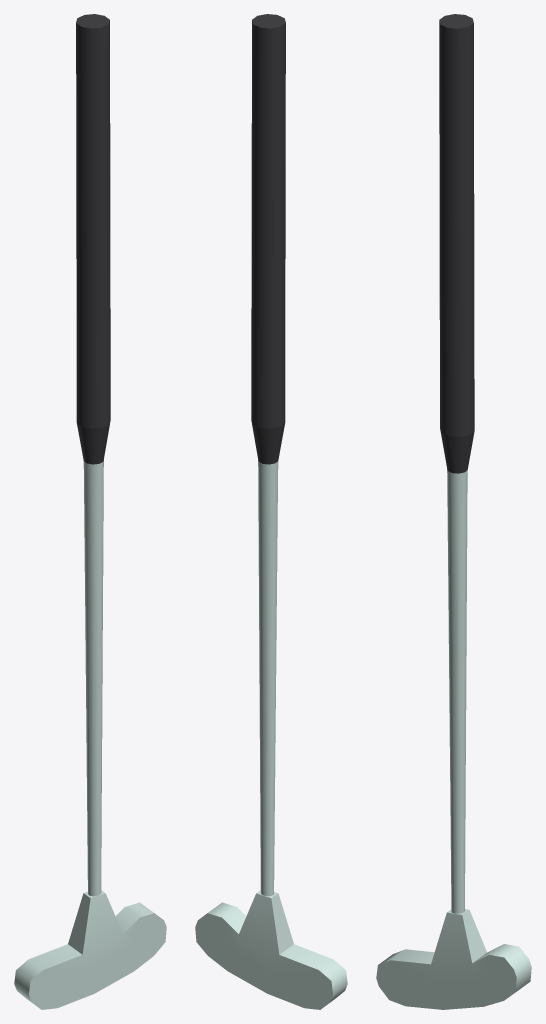
The model's file is GolfClub.fbx.
The picture shows the model from 3 angles, left to right: view 1: azimuth 30°, elevation 25°; view 2: azimuth 150°, elevation 25°; view 3: azimuth 330°, elevation 25°; orthographic projection.
Parts seen in each view (by area): view 1: SM_Golf_Club; view 2: SM_Golf_Club; view 3: SM_Golf_Club.
Boxes of the visible parts, x1,y1,x2,y2 form: SM_Golf_Club: [14, 14, 166, 1009]; SM_Golf_Club: [195, 14, 347, 1009]; SM_Golf_Club: [376, 14, 531, 1009].
Size of the model in its own units: 0.1479 by 0.9952 by 0.0322.
